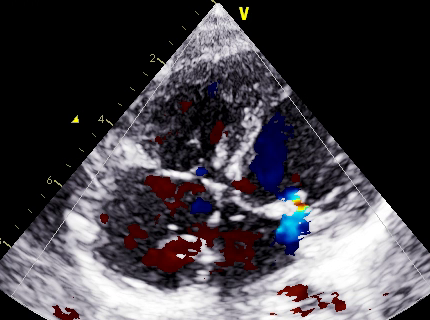MR: (241, 187, 312, 242)
